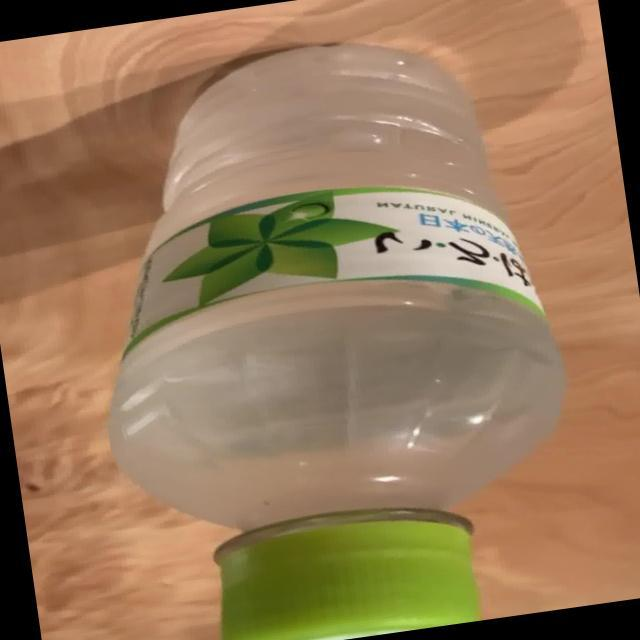good: (55, 12, 601, 640)
